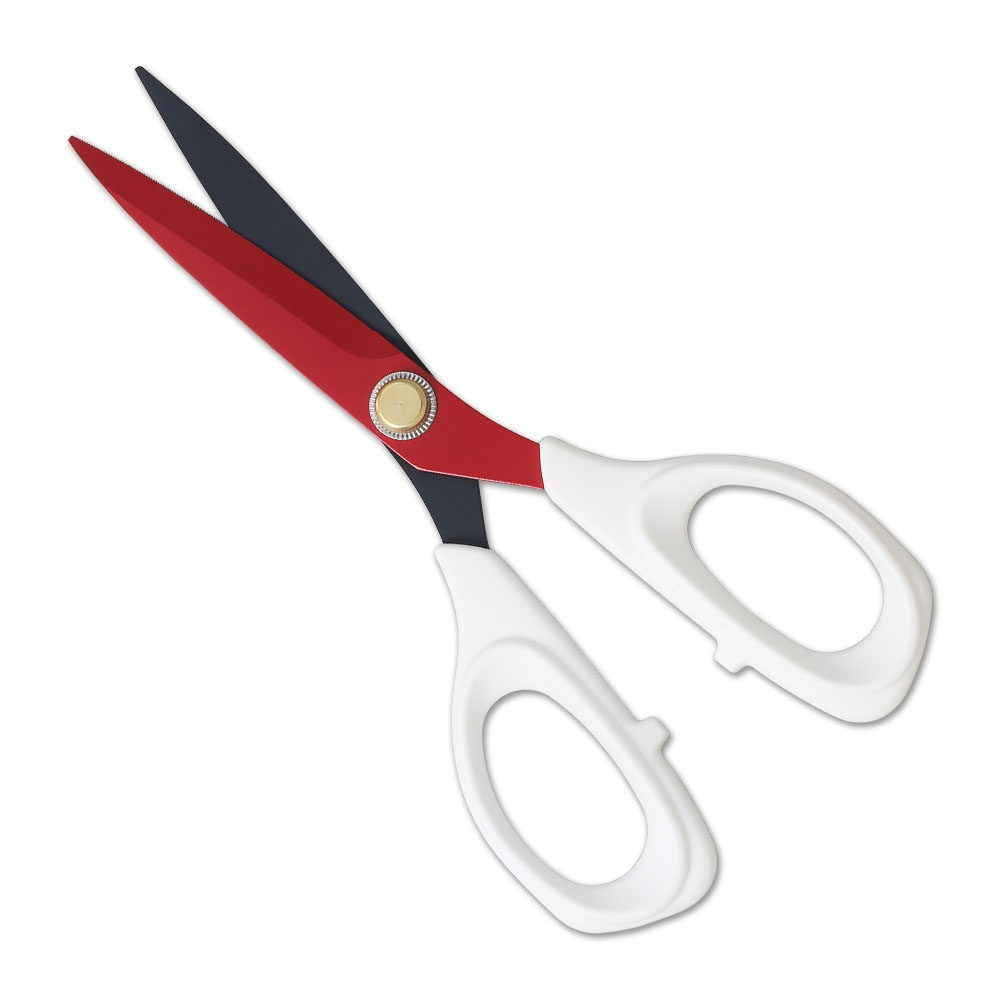scissors: (54, 57, 944, 945)
